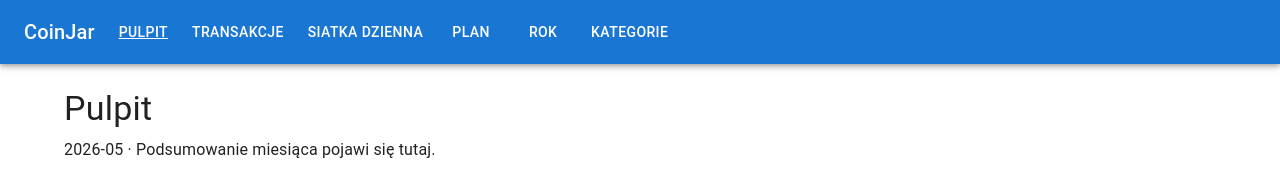
Test: routes › keeps the month from the URL when navigating
What coordinates should you click on to do the following:
click the link "Transakcje"
I would click on:
 (238, 32)
Its box is [192, 24, 284, 40].
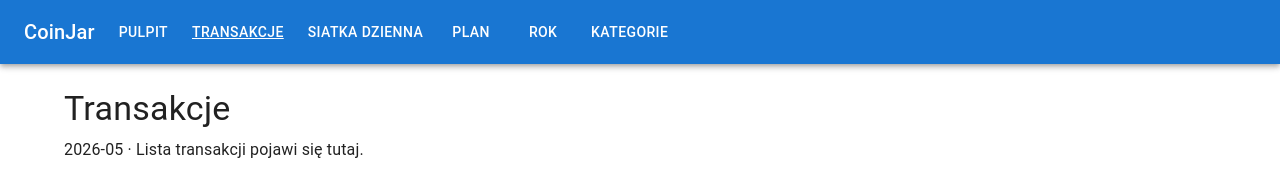
Expected: the heading "Transakcje" is shown, [64, 88, 231, 128]
